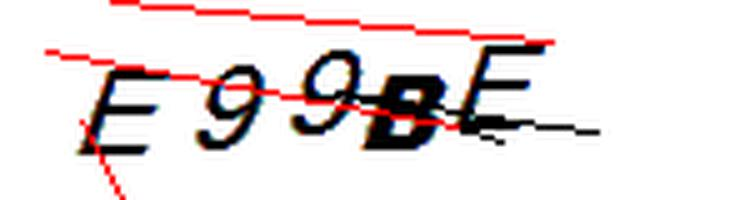9: (187, 58, 275, 159), (281, 41, 366, 140)
B: (357, 70, 450, 156)
E: (454, 39, 556, 140), (75, 61, 176, 162)
